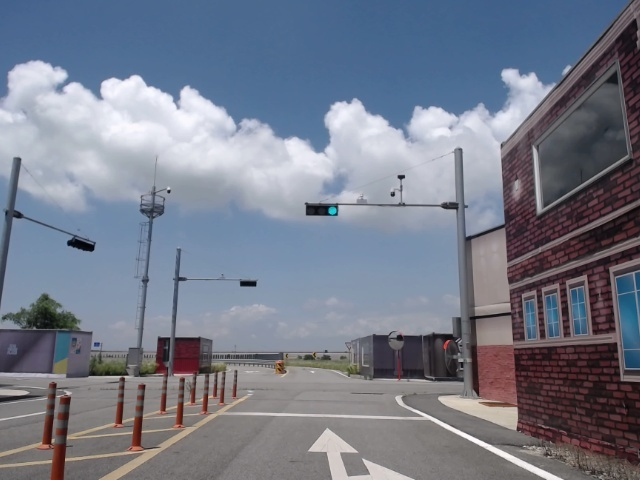green_3: (307, 206, 338, 215)
